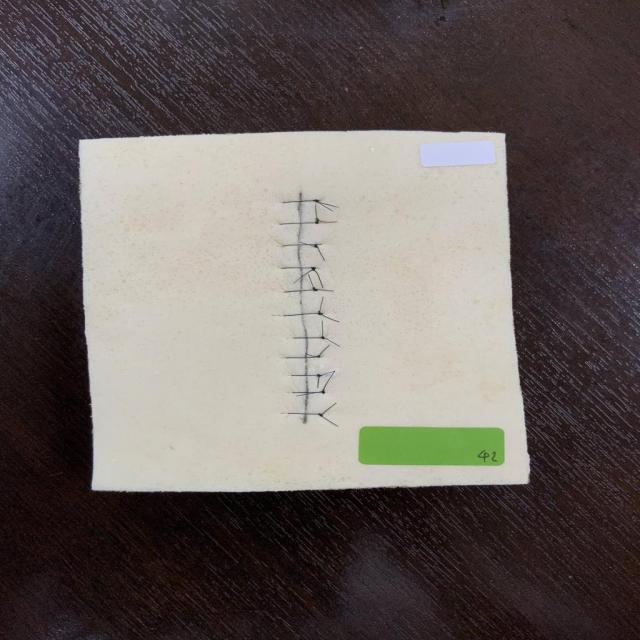knot: (319, 387, 328, 396), (309, 265, 319, 273), (310, 197, 321, 204), (316, 411, 325, 419), (312, 242, 322, 249), (315, 372, 325, 379), (316, 311, 326, 317), (313, 219, 321, 226), (311, 287, 320, 293), (319, 335, 327, 341), (315, 354, 323, 359)
leftover: (293, 269, 314, 284), (323, 370, 336, 391), (320, 415, 339, 427), (313, 269, 324, 289), (321, 402, 337, 415), (295, 390, 323, 397), (316, 201, 333, 212), (323, 337, 341, 347), (320, 313, 340, 322), (316, 201, 339, 208), (318, 344, 330, 357), (315, 217, 338, 223), (316, 246, 325, 261), (312, 286, 334, 292), (307, 274, 315, 290), (318, 296, 324, 314), (299, 241, 316, 247), (304, 352, 319, 357), (320, 371, 335, 376), (314, 204, 318, 222), (321, 320, 324, 338), (317, 375, 320, 388)
stitch: (282, 243, 322, 247), (283, 313, 323, 317), (282, 200, 320, 204), (284, 289, 318, 293), (280, 222, 319, 225), (287, 412, 323, 415), (285, 355, 320, 358), (281, 267, 316, 269), (292, 391, 325, 393), (293, 337, 325, 339), (290, 374, 320, 376)
wound: (297, 192, 309, 422)
